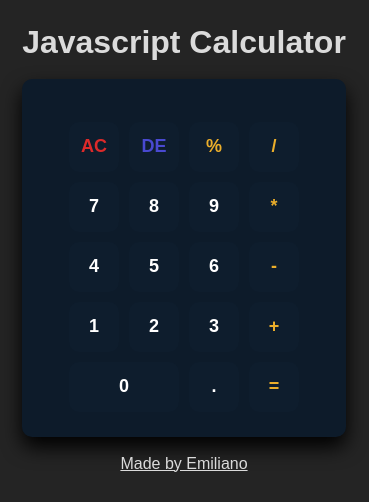
it: Calculadora › 12 + 3 = 15
The width and height of the screenshot is (369, 502).
Click the button "1".
click(94, 326)  # box top-left (69, 302), bottom-right (119, 352)
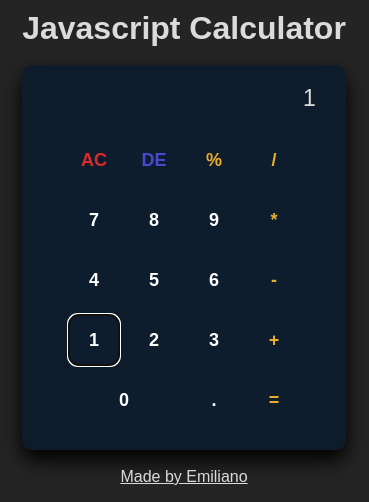
Click the button "2".
click(154, 340)  # box top-left (129, 315), bottom-right (179, 365)
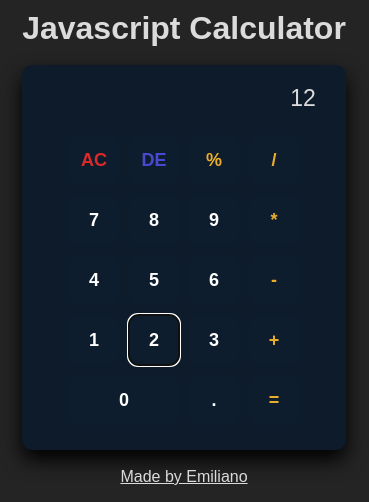
Click the button "+".
click(274, 340)  # box top-left (249, 315), bottom-right (299, 365)
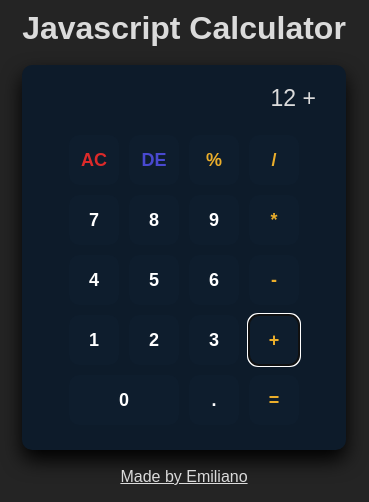
Click the button "3".
click(214, 340)  # box top-left (189, 315), bottom-right (239, 365)
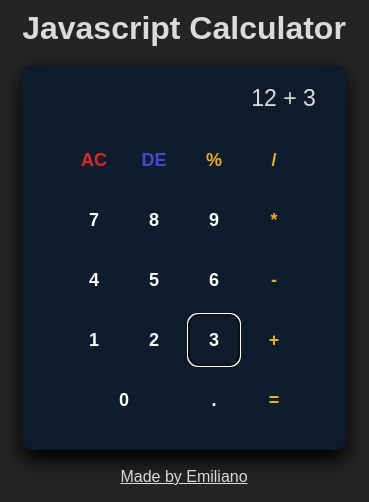
Click the button "=".
click(274, 400)  # box top-left (249, 375), bottom-right (299, 425)
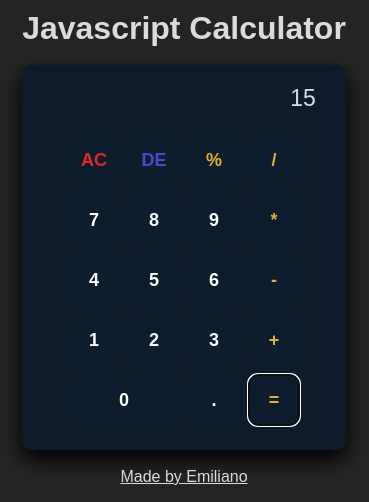
Check: the text with test id "answer" reads "15", box top-left (290, 85), bottom-right (316, 111)
